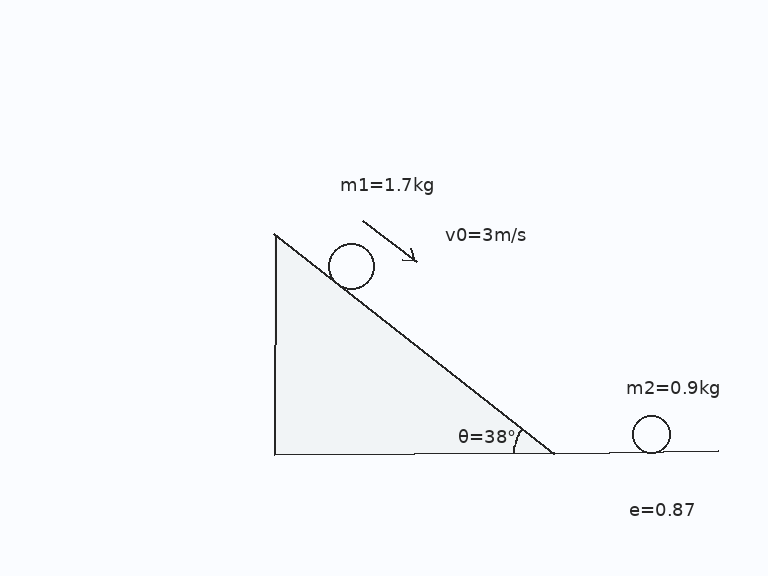ball: (326, 241, 376, 291), (630, 413, 672, 455)
ramp: (272, 232, 556, 455)
